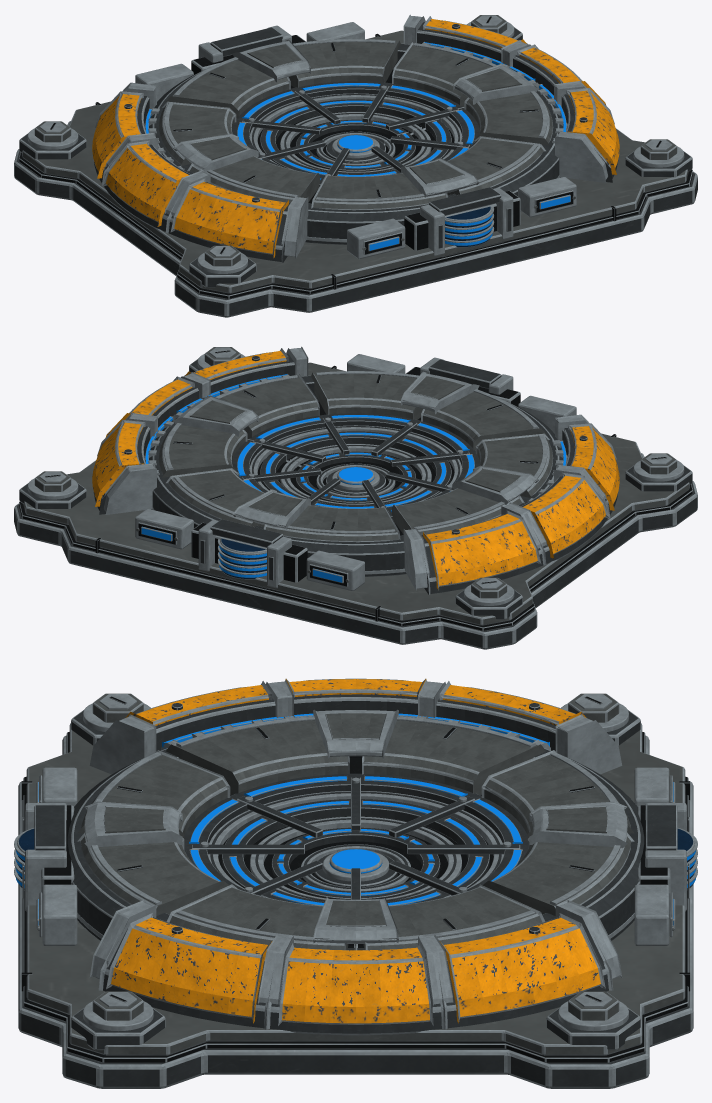
File: SM_GravityFlipPlate.fbx
The picture shows the model from 3 angles, top to bottom: view 1: azimuth 30°, elevation 25°; view 2: azimuth 150°, elevation 25°; view 3: azimuth 270°, elevation 25°; orthographic projection. The views are drawn at different scales.
Visible parts, largest first — view 1: SM_GravityFlipPlate; view 2: SM_GravityFlipPlate; view 3: SM_GravityFlipPlate.
Boxes of the visible parts, left/top/right/bottom form: SM_GravityFlipPlate: left=14, top=14, right=697, bottom=317; SM_GravityFlipPlate: left=14, top=346, right=697, bottom=649; SM_GravityFlipPlate: left=14, top=678, right=697, bottom=1088.
Size of what is drawn, in the model's own units: 240 by 203 by 33.9.
1 material, 1 textured.
